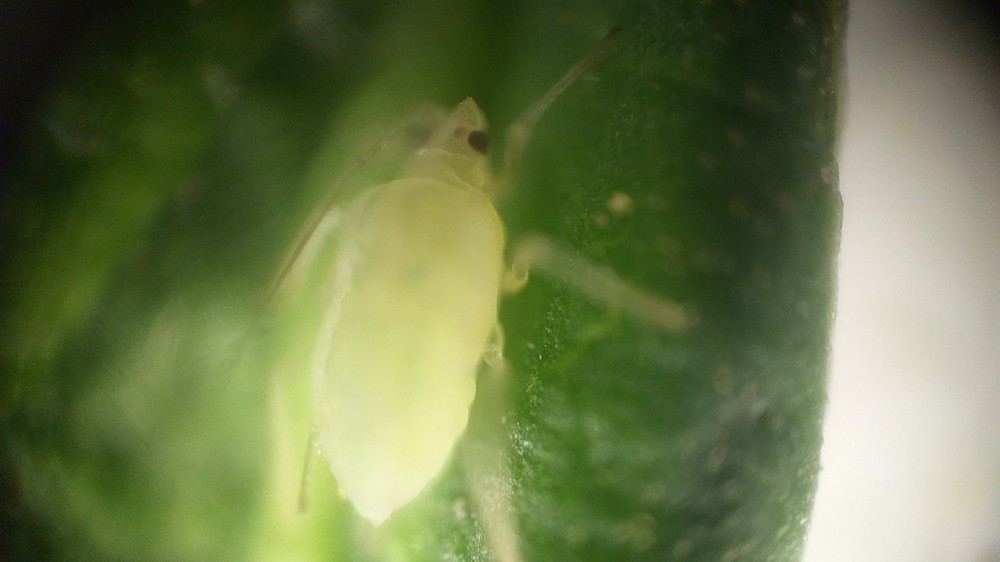Pulgon: (198, 36, 708, 558)
